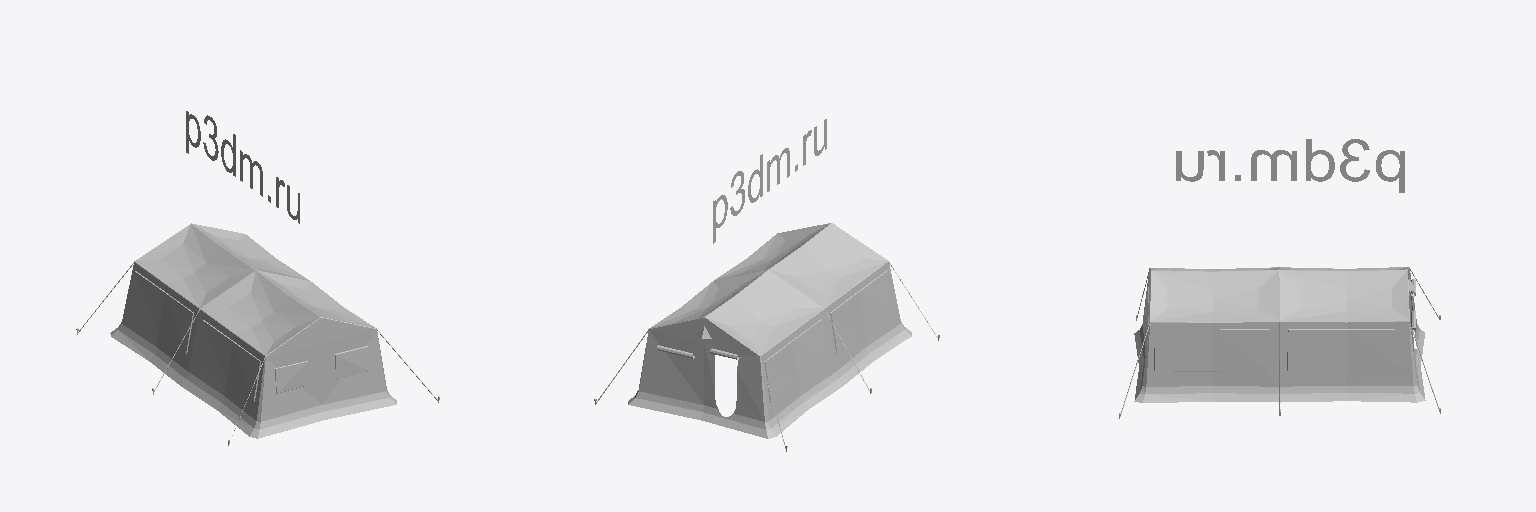
Rendered from p3dm.ru_Military tent.obj.
The picture shows the model from 3 angles: view 1: azimuth 30°, elevation 25°; view 2: azimuth 150°, elevation 25°; view 3: azimuth 270°, elevation 25°; orthographic projection.
Visible parts, largest first — view 1: DrawCall_0056, Text001; view 2: DrawCall_0056, Text001; view 3: DrawCall_0056, Text001.
Part boxes in pixels (x1,y1,x2,y2): DrawCall_0056: (76,223,439,445); Text001: (186,111,299,223); DrawCall_0056: (594,223,939,451); Text001: (713,119,826,243); DrawCall_0056: (1119,267,1440,418); Text001: (1176,139,1404,192).
Size of the model in its own units: 8.98 by 9.42 by 12.12.